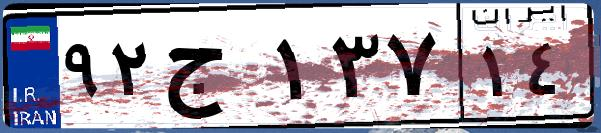1: (270, 28, 330, 110), (475, 38, 525, 113)
2: (110, 28, 158, 98)
3: (330, 28, 385, 110)
4: (525, 38, 570, 115)
7: (385, 28, 445, 110)
9: (57, 26, 110, 100)
ج: (158, 20, 270, 120)
